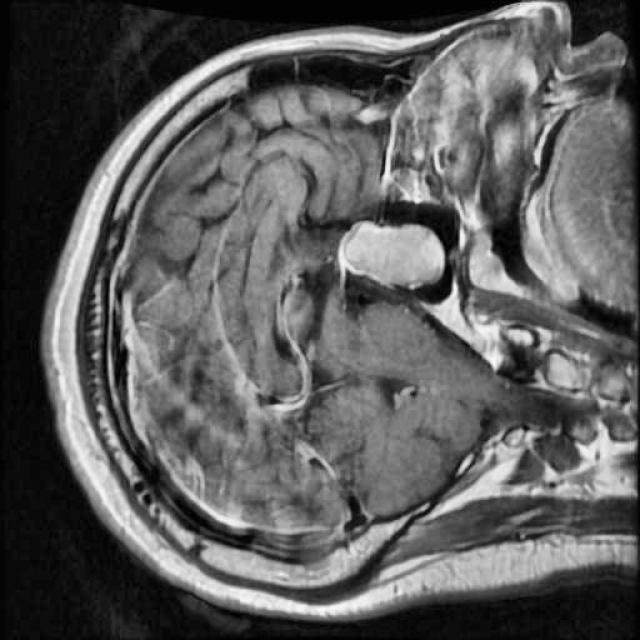Tumor: (319, 201, 449, 296)
